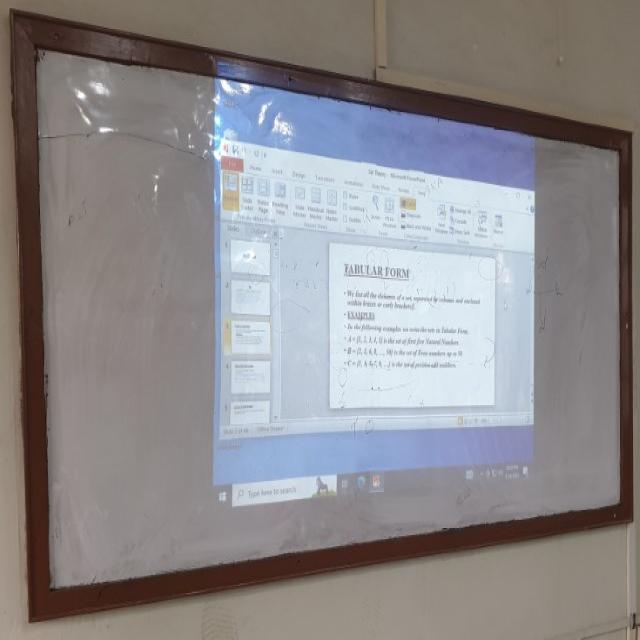Slide: (215, 61, 538, 523)
White-board: (20, 22, 631, 615)
